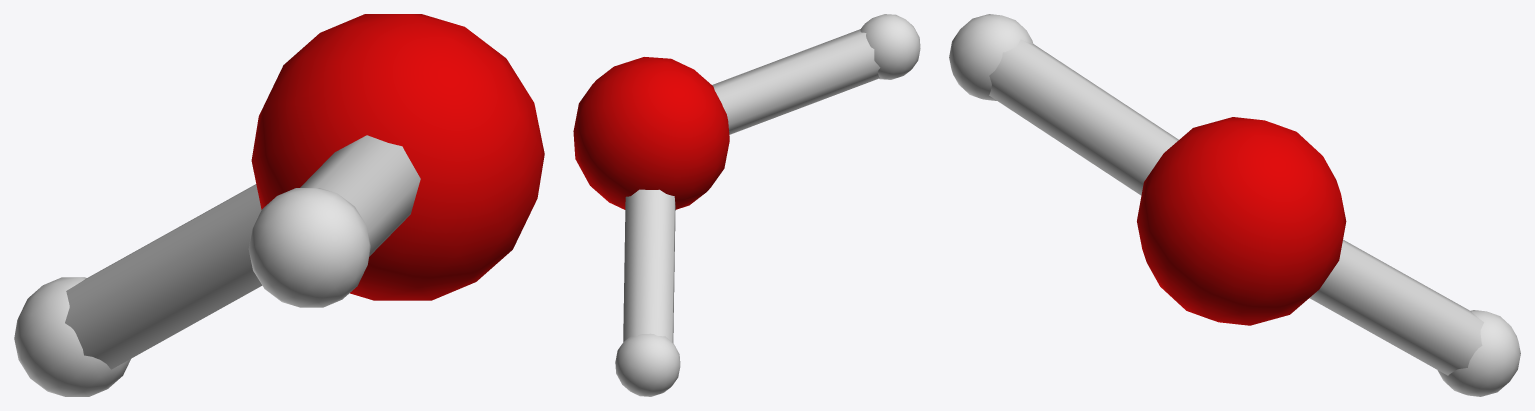
Rendered from eau.fbx.
3 renders of one model, left to right at view 1: azimuth 30°, elevation 25°; view 2: azimuth 150°, elevation 25°; view 3: azimuth 270°, elevation 25°, orthographic. The views are drawn at different scales.
Visible parts, largest first — view 1: Group3, Group4, Group2, Group1, Group5; view 2: Group3, Group5, Group4, Group1, Group2; view 3: Group3, Group5, Group4, Group2, Group1.
Part boxes in pixels (<box>): Group3: <box>251,14,544,300</box>; Group4: <box>65,184,262,369</box>; Group2: <box>248,188,370,307</box>; Group1: <box>14,277,130,396</box>; Group5: <box>300,135,420,256</box>; Group3: <box>573,57,729,209</box>; Group5: <box>712,29,880,134</box>; Group4: <box>623,189,675,342</box>; Group1: <box>615,333,680,396</box>; Group2: <box>860,14,920,79</box>; Group3: <box>1137,117,1346,325</box>; Group5: <box>989,39,1178,195</box>; Group4: <box>1309,239,1483,375</box>; Group2: <box>949,14,1033,100</box>; Group1: <box>1437,310,1520,396</box>.
Bounding box in the file's own units: 81.4 × 83.48 × 128.
